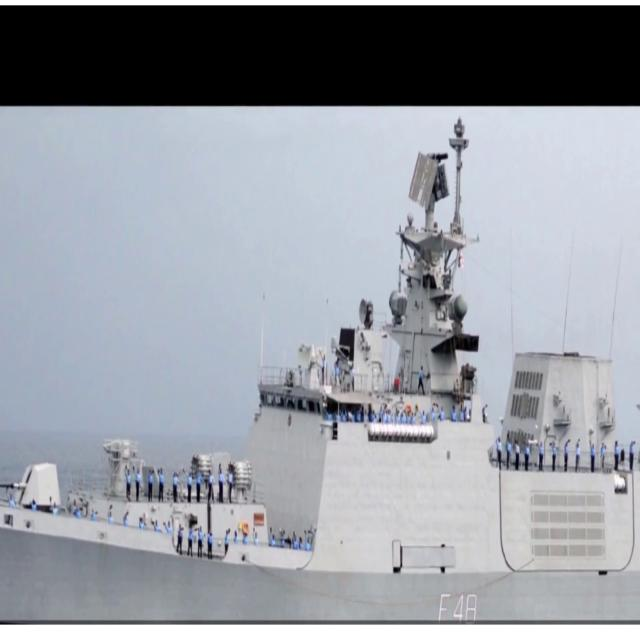OCR: (429, 586, 482, 623)
